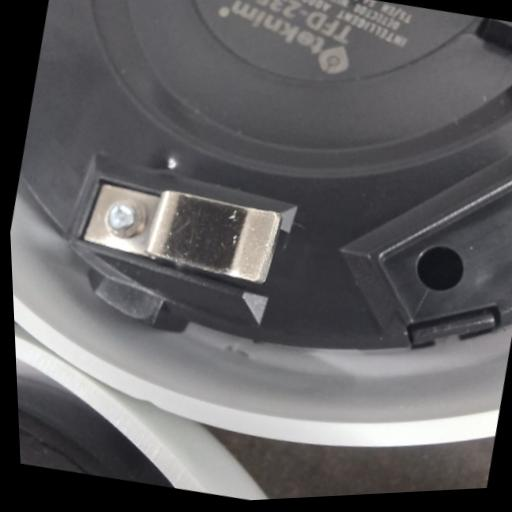yaysiz: (72, 165, 289, 297)
